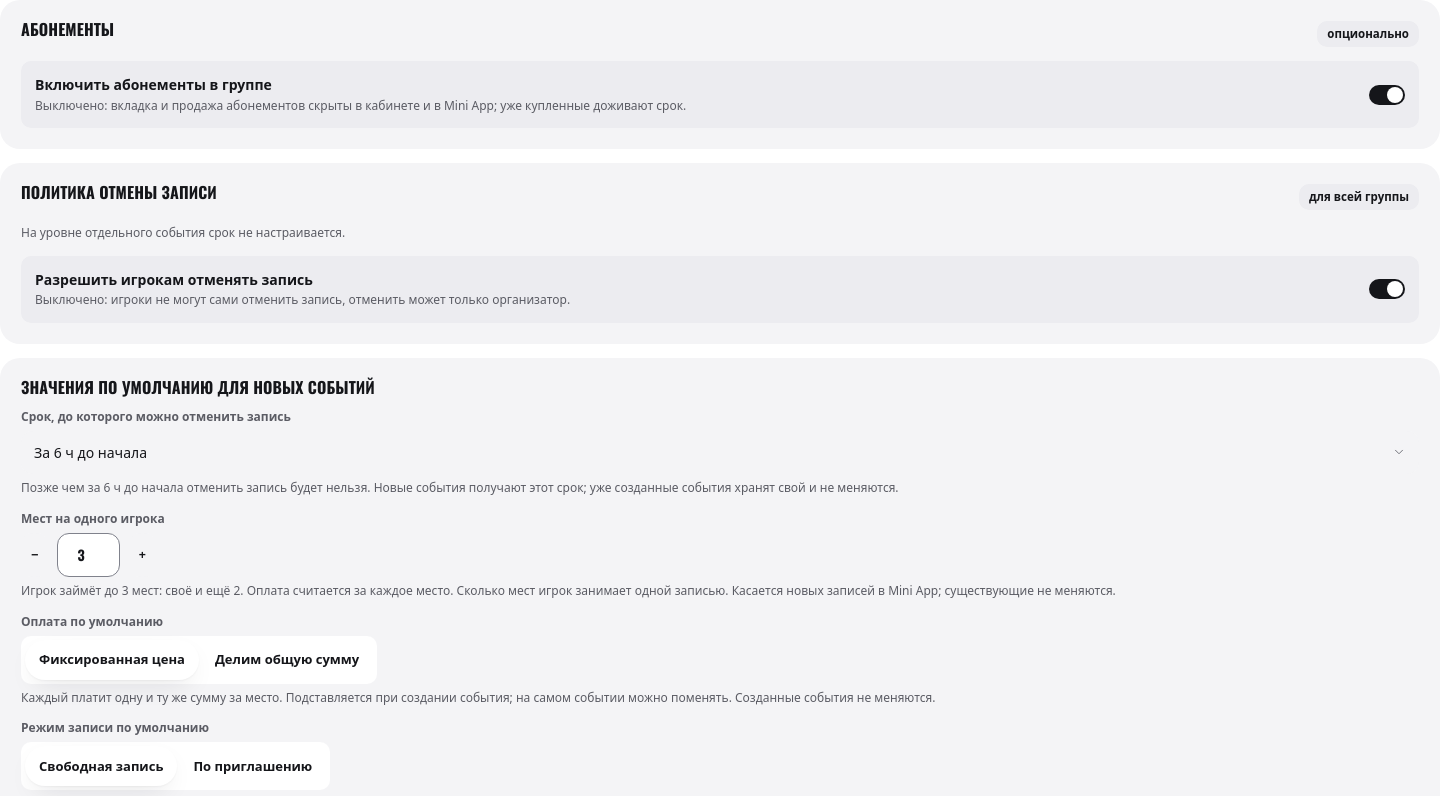
Scenario: SettingsBookings › stops the stepper at the limits
This screenshot has width=1440, height=796.
Step 1. Replace the text in the number field labelled "Мест на одного игрока" with "10" → {"x": 89, "y": 555}, box [57,533,120,577]
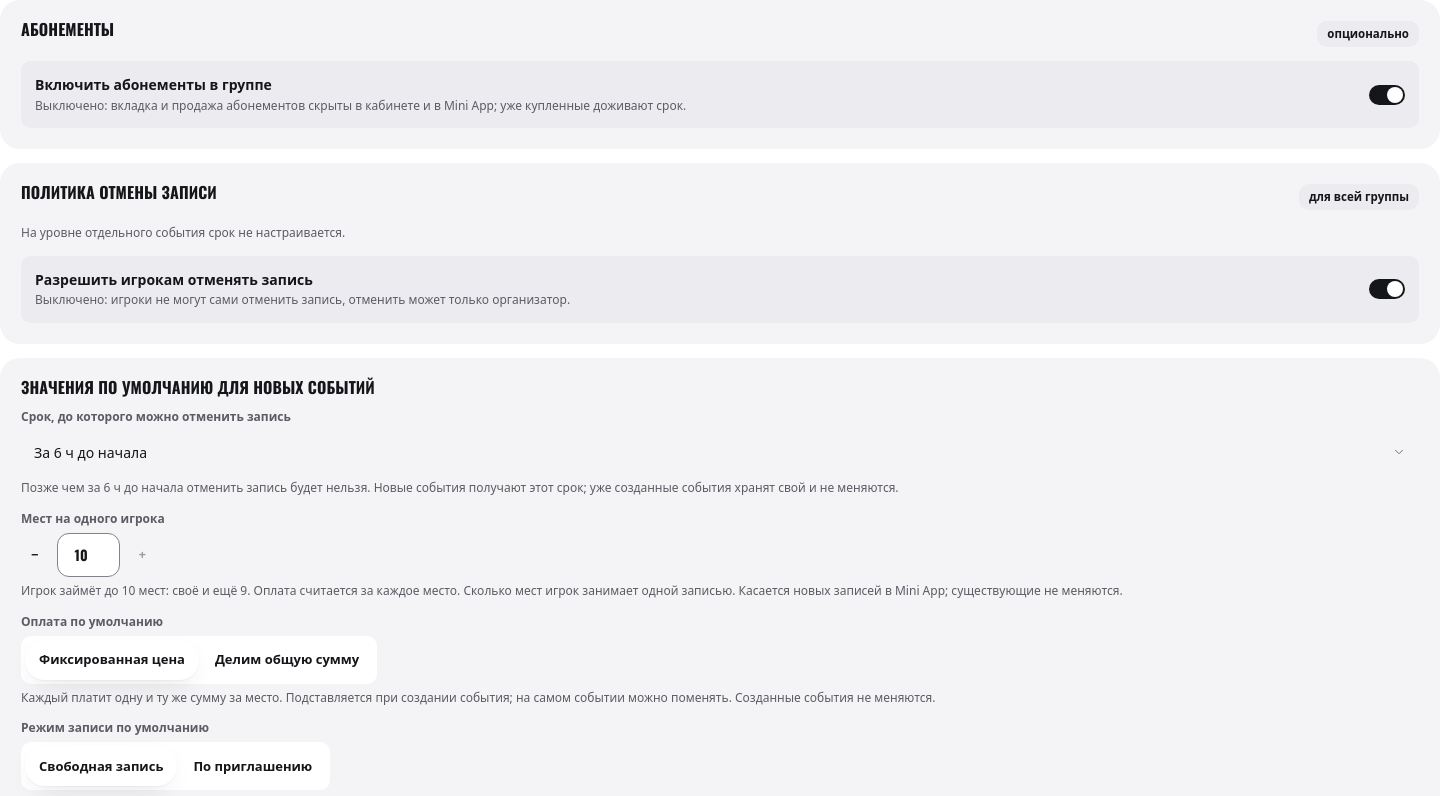
Expected: the button named "Больше мест" is disabled, [129,533,156,577]
Step 2. Replace the text in the number field labelled "Мест на одного игрока" with "1" → {"x": 89, "y": 555}, box [57,533,120,577]
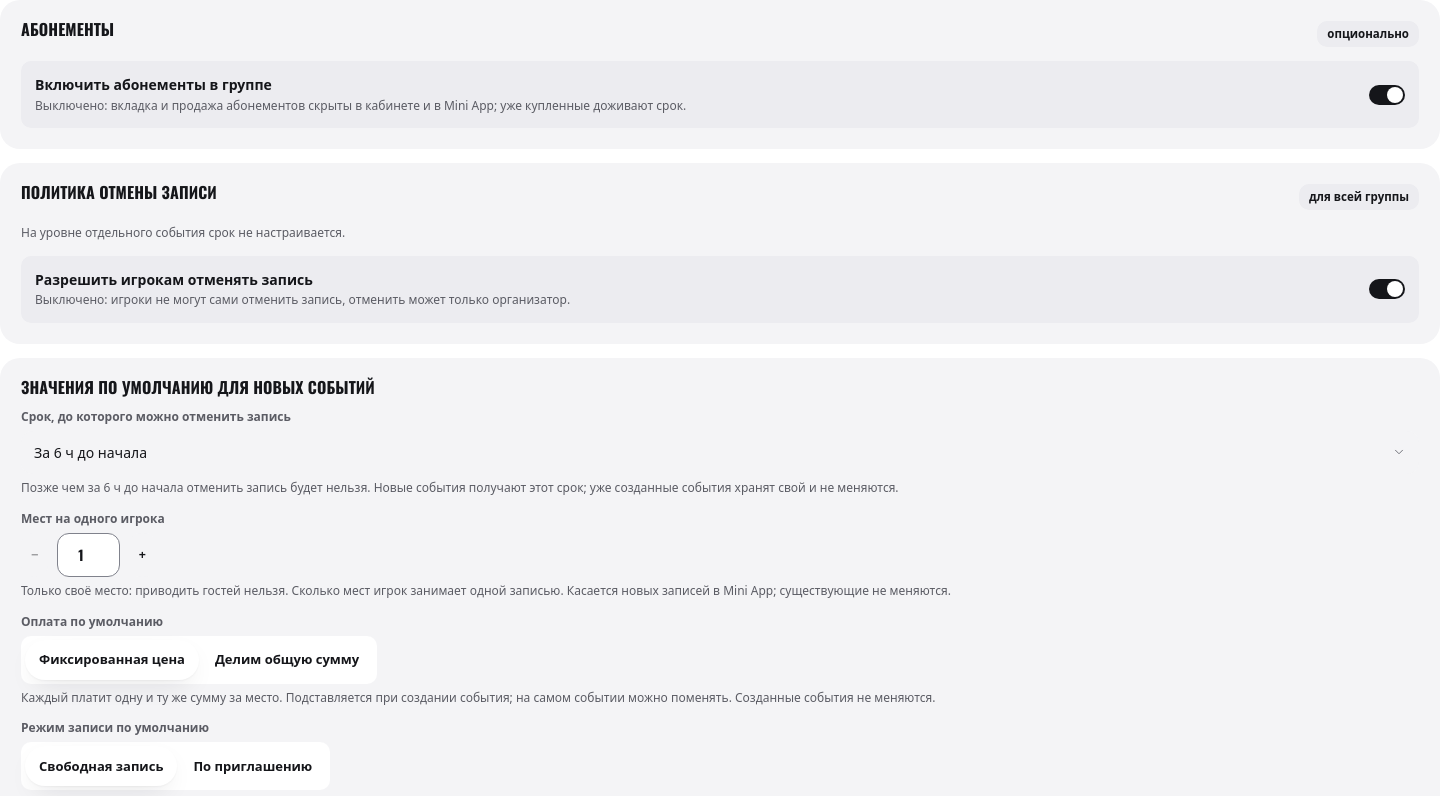
Expected: the button named "Меньше мест" is disabled, [21,533,48,577]
Expected: the text "приводить гостей нельзя" is shown, [21,582,951,599]
